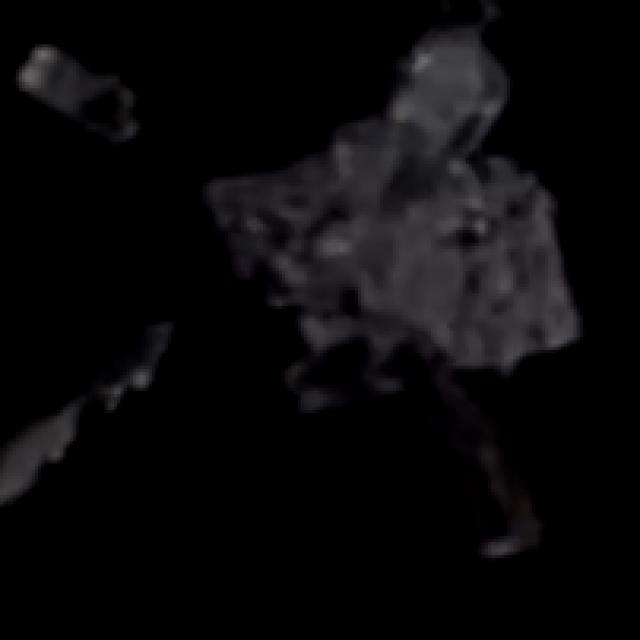large_debris: (212, 2, 606, 594), (3, 301, 186, 554), (17, 32, 152, 193)
